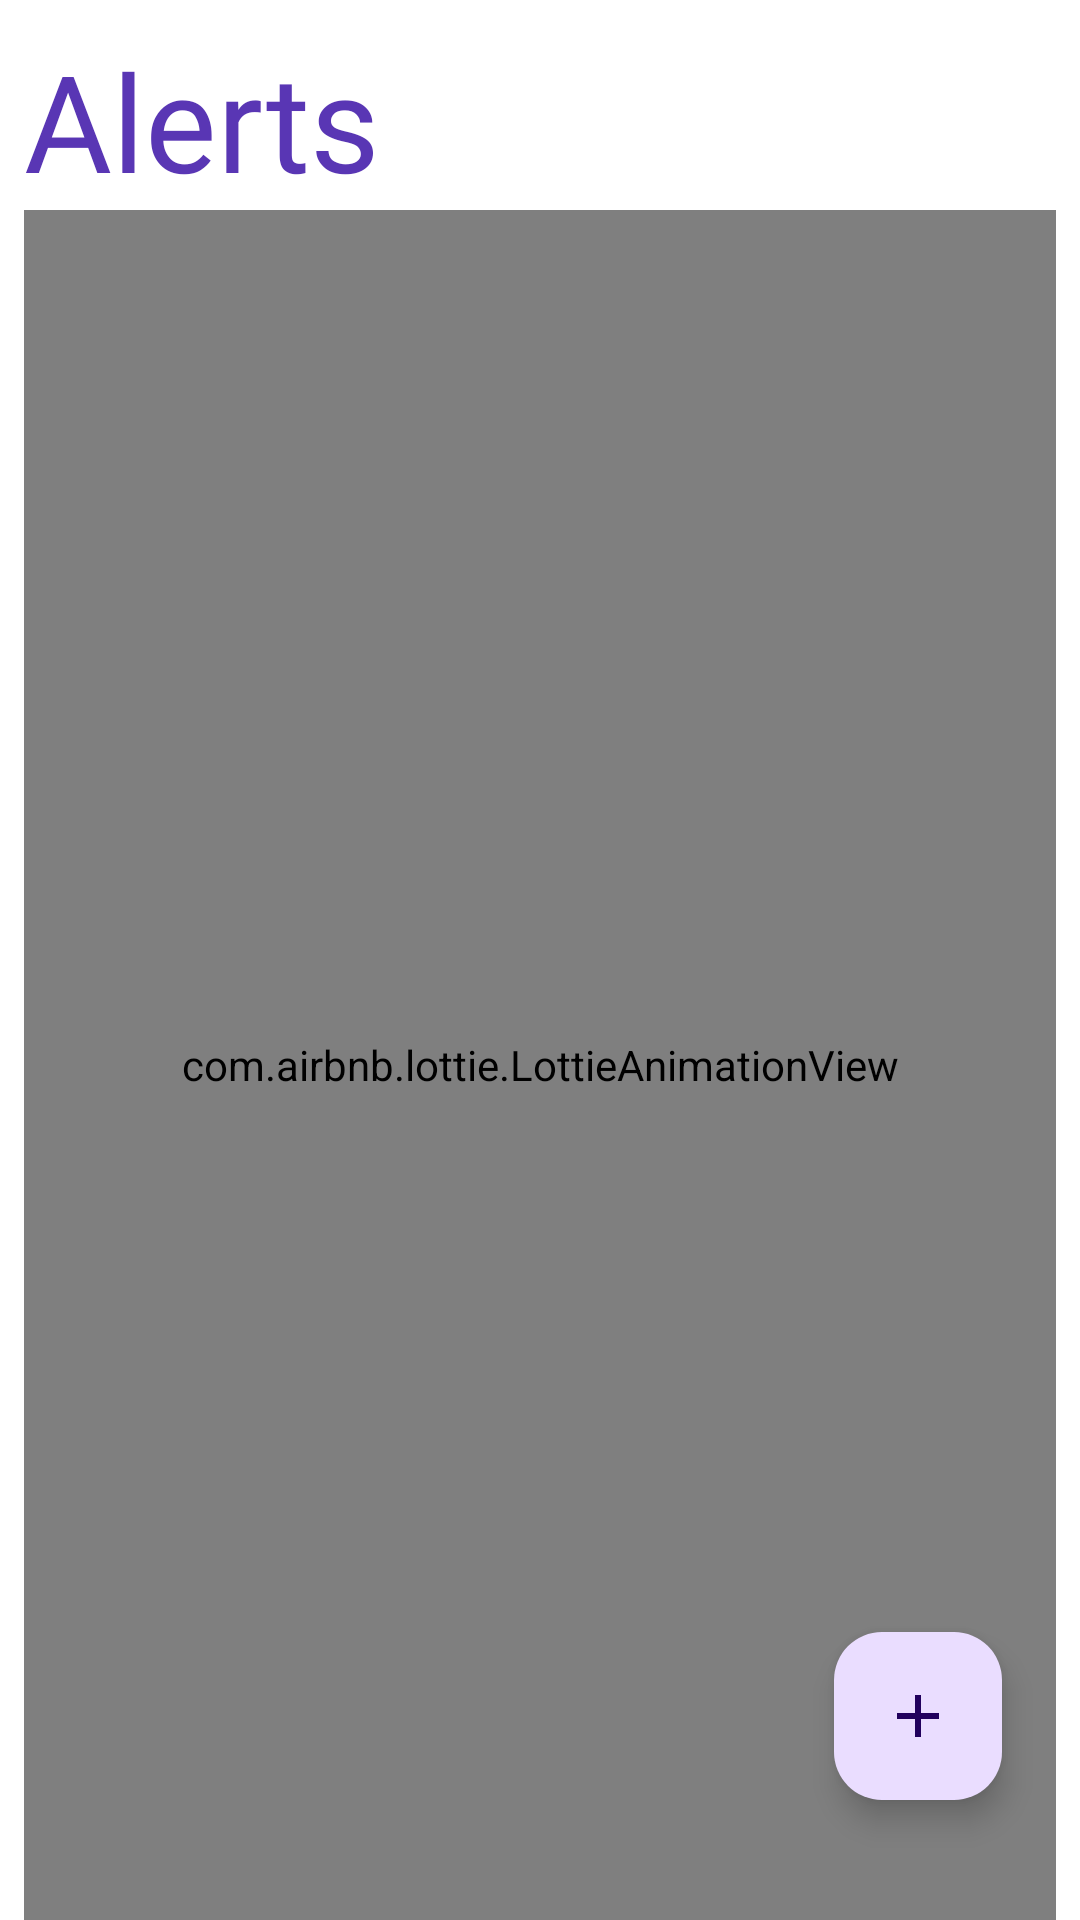

Point at icon controls on the screen. Image size 1080w x 1920h, points as [x,y].
add: [918,1716]
